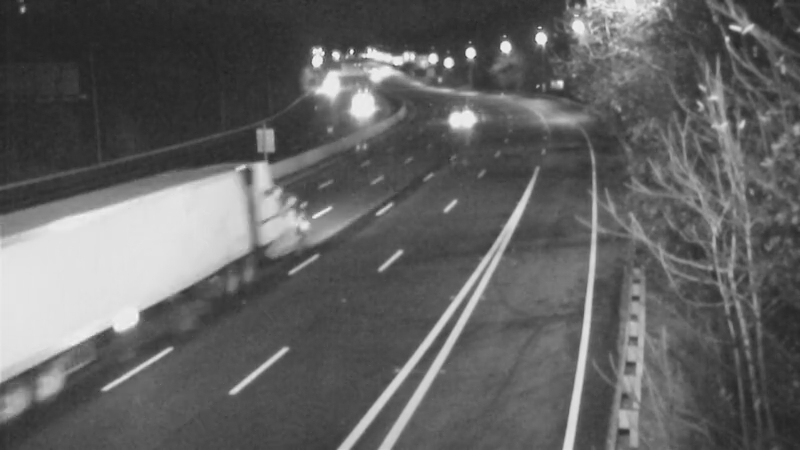vehicle: (210, 193, 290, 273), (433, 90, 483, 140), (337, 82, 387, 132), (307, 56, 357, 106)
